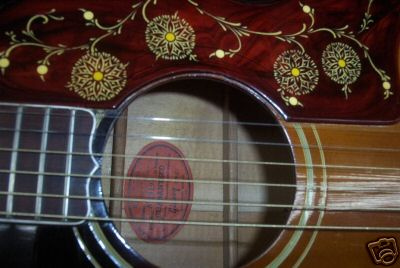guitar: (1, 1, 400, 268)
